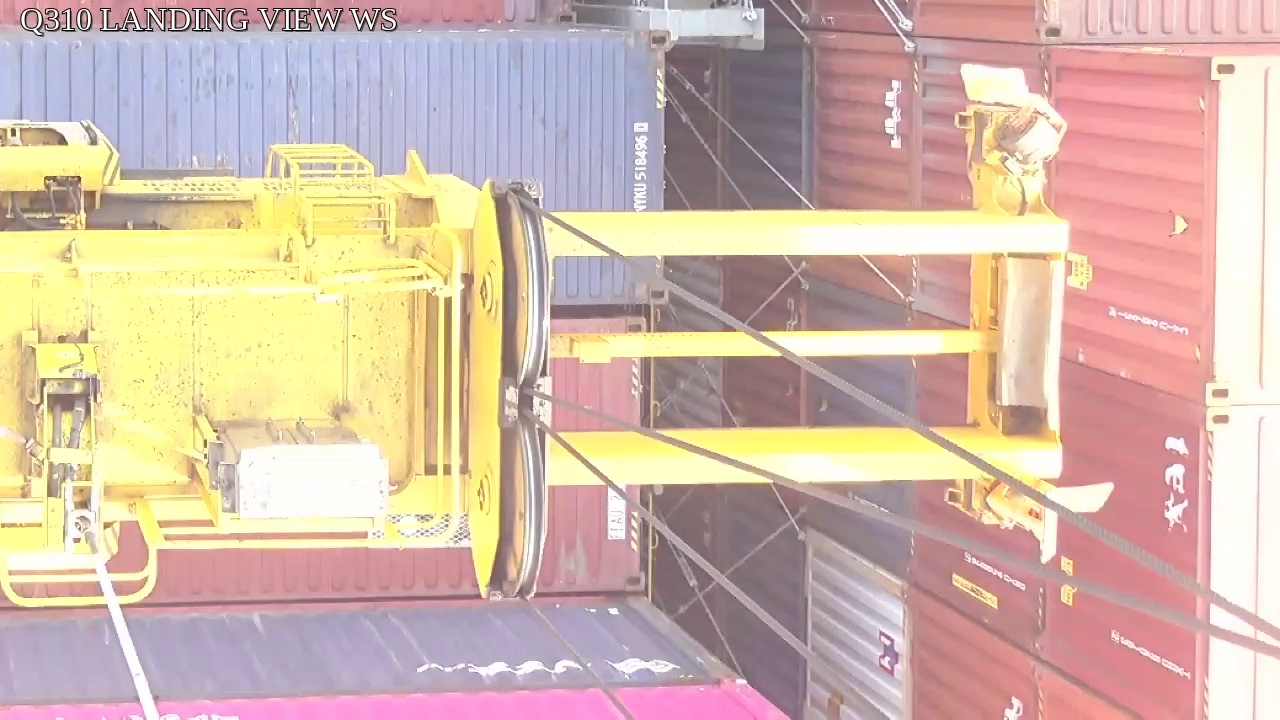right: (465, 181, 552, 605)
